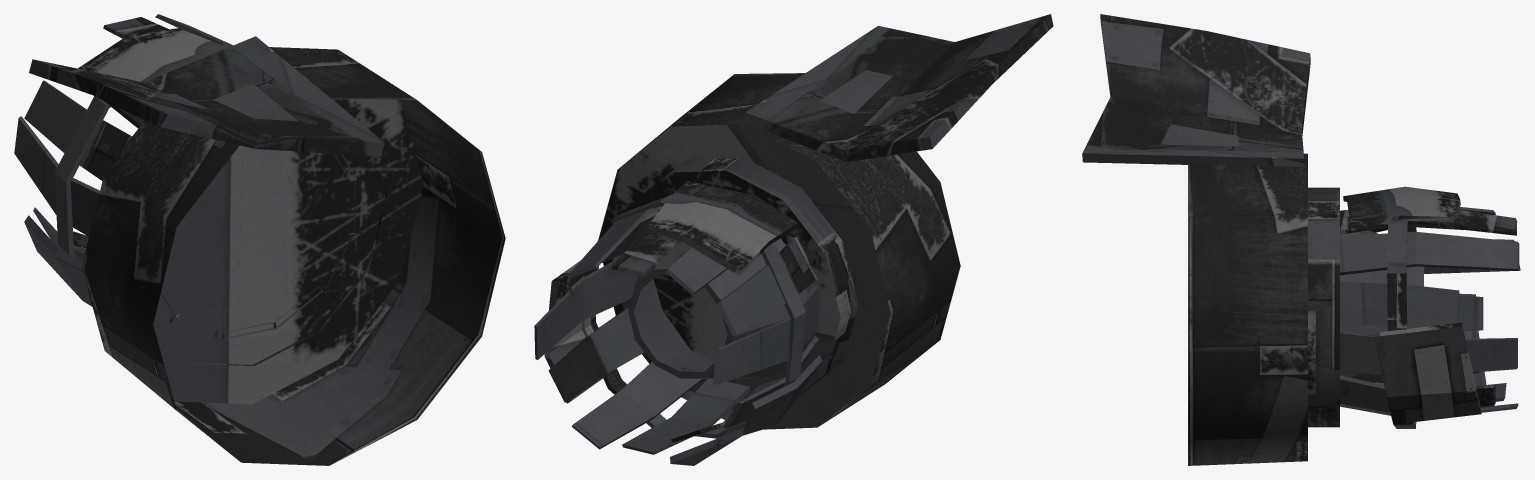
File: HCD5.fbx
3 renders of one model, left to right at view 1: azimuth 30°, elevation 25°; view 2: azimuth 150°, elevation 25°; view 3: azimuth 270°, elevation 25°, orthographic. The views are drawn at different scales.
Visible parts, largest first — view 1: fiveD; view 2: fiveD; view 3: fiveD.
Boxes of the visible parts, left/top/right/bottom form: fiveD: left=14, top=14, right=505, bottom=465; fiveD: left=534, top=14, right=1053, bottom=465; fiveD: left=1082, top=14, right=1520, bottom=465.
Size of the model in its own units: 3453 by 3663 by 4140.
Materials: 1 (1 with a texture image).
